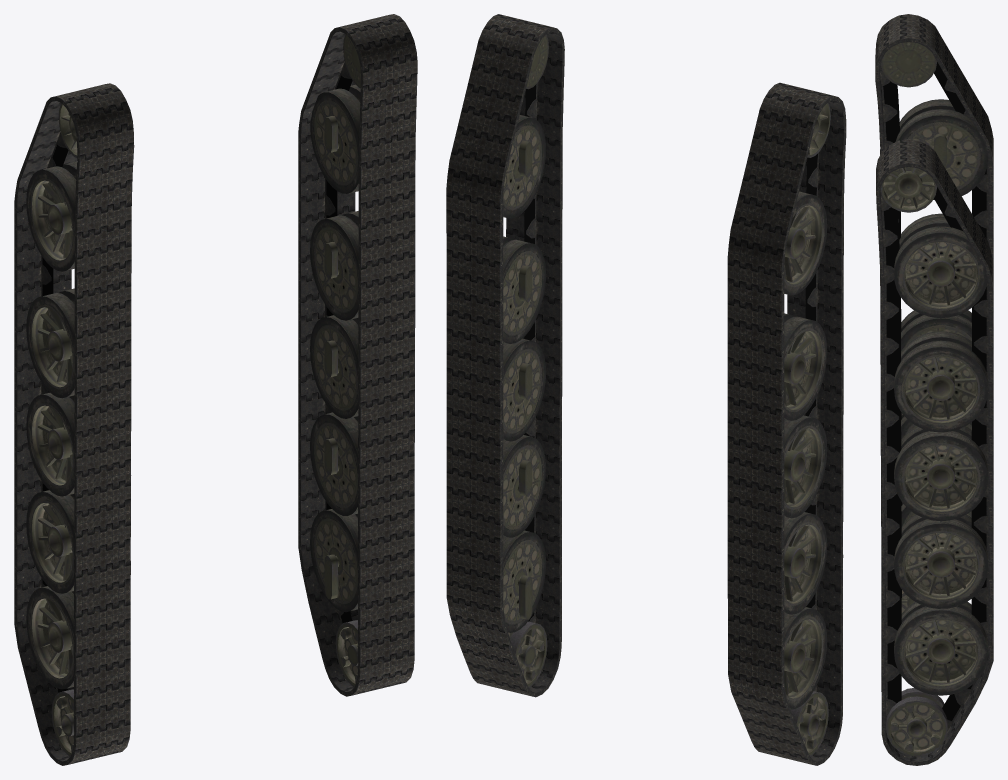
Rendered from Chassis.glb.
The picture shows the model from 3 angles, left to right: view 1: azimuth 30°, elevation 25°; view 2: azimuth 150°, elevation 25°; view 3: azimuth 270°, elevation 25°; orthographic projection. The views are drawn at different scales.
Parts seen in each view (by area): view 1: set_2_group_0, set_3_group_0, set_1_group_0, set_0_group_0; view 2: set_2_group_0, set_3_group_0, set_0_group_0, set_1_group_0; view 3: set_1_group_0, set_3_group_0, set_0_group_0, set_2_group_0.
Boxes of the visible parts, x1,y1,x2,y2 form: set_2_group_0: [14, 83, 134, 765]; set_3_group_0: [298, 14, 417, 696]; set_1_group_0: [310, 34, 360, 687]; set_0_group_0: [26, 103, 77, 756]; set_2_group_0: [727, 82, 846, 765]; set_3_group_0: [446, 14, 564, 697]; set_0_group_0: [784, 103, 830, 756]; set_1_group_0: [503, 34, 548, 687]; set_1_group_0: [881, 167, 988, 756]; set_3_group_0: [876, 139, 993, 765]; set_0_group_0: [881, 42, 987, 613]; set_2_group_0: [875, 14, 993, 505].
Bounding box in the file's own units: 3.11 × 5.86 × 1.04.
Materials: 4 (4 with a texture image).
